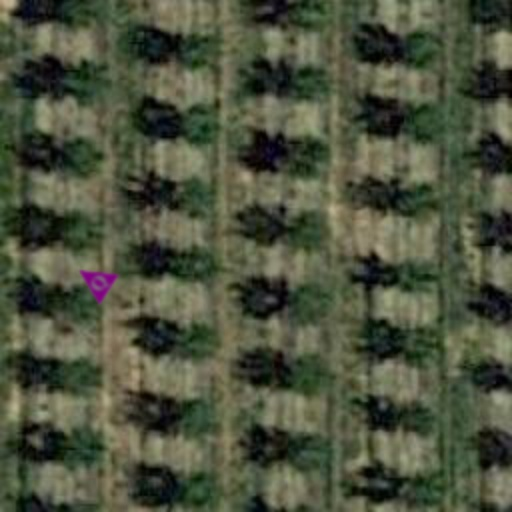triangle: (68, 254, 120, 306)
